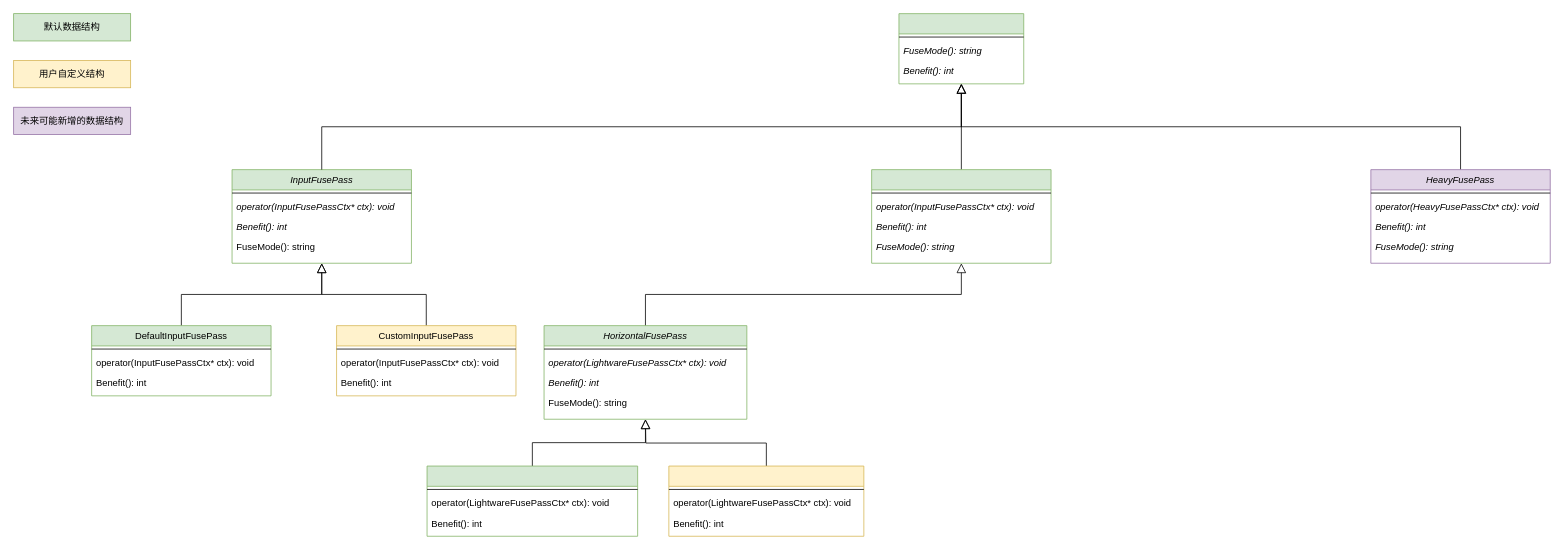
The diagram is 1564 pixels wide and 550 high, and some of its shapes have lost their labels. The box of each missing label's shape, as (x1, y1, x2, y2) in pixels:
CustomInputHorizontalFusePass: (668, 465, 864, 536)
DefaultHorizontalFusePass: (426, 465, 638, 536)
FusePass: (898, 13, 1024, 84)
LightwareFusePass: (871, 169, 1051, 263)
